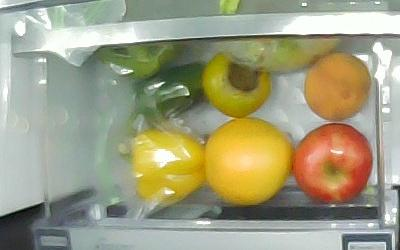apple: (293, 123, 373, 207)
grapefruit: (205, 118, 293, 206)
paprika_vinyl: (131, 130, 205, 201), (128, 61, 203, 127)
peach: (305, 51, 371, 121)
persimmon_vinyl: (202, 52, 271, 118)
